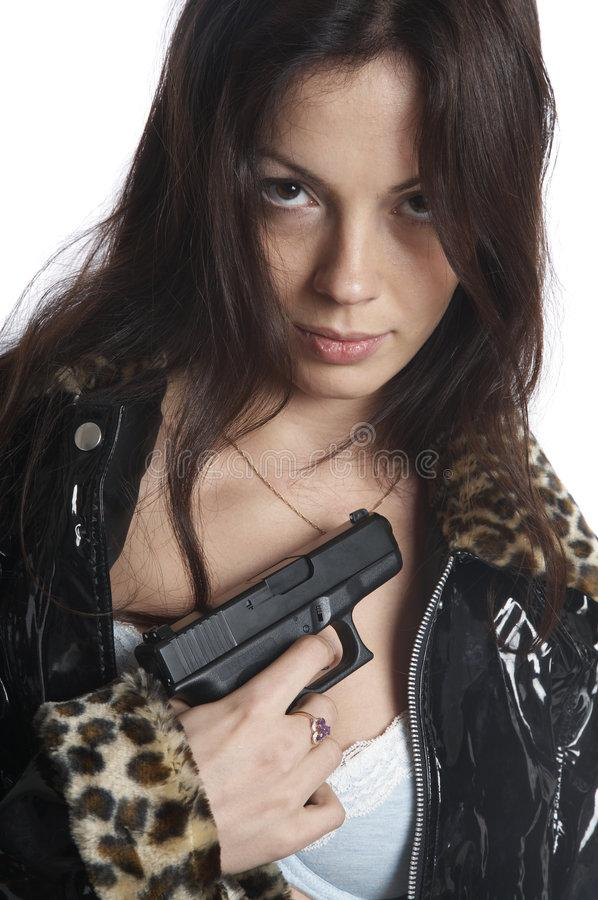criminal: (0, 0, 598, 900)
weapon: (131, 504, 408, 721)
